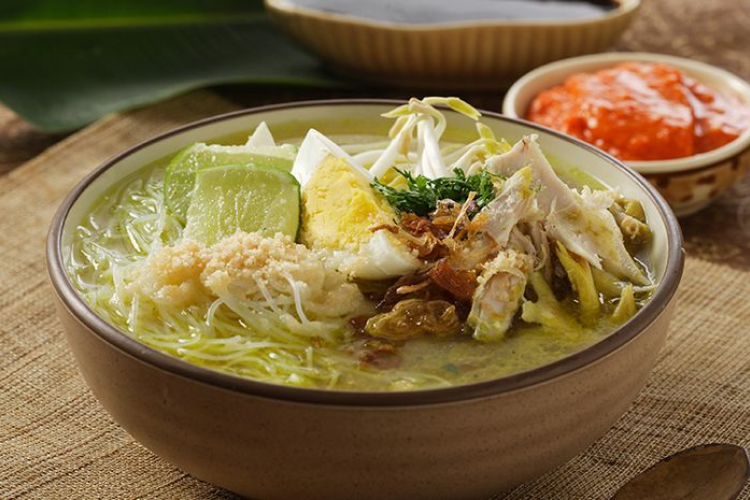soto: (51, 79, 663, 452)
